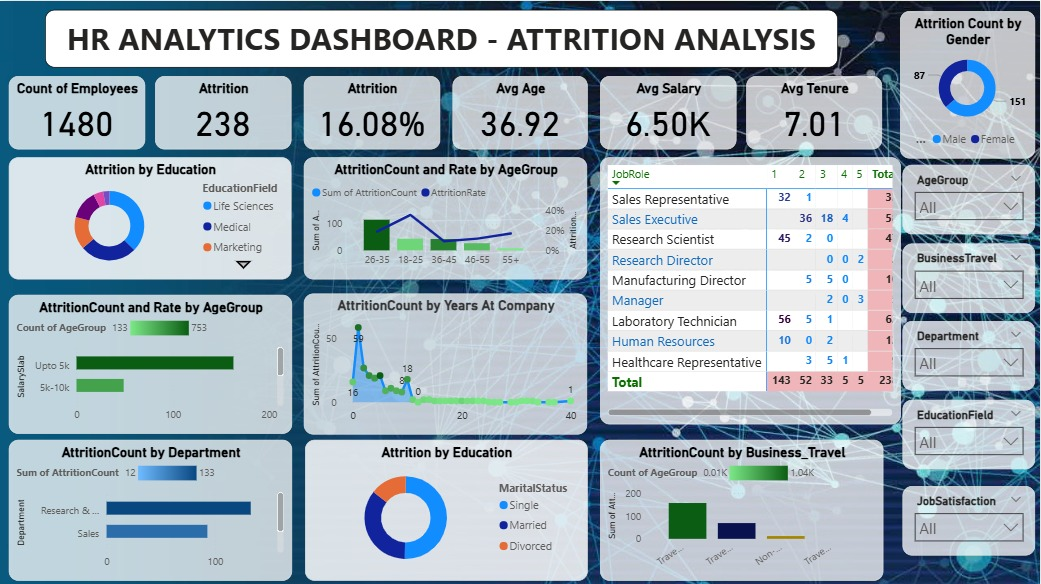

Layout of this report page (visuals, bound fields, positions):
{"tool":"powerbi","page":{"name":"Page 1","canvas":[1280,720],"ordinal":0},"visuals":[{"type":"textbox","box":[55,11.2,976.2,71.2],"z":0},{"type":"card","title":"Count of Employees","fields":{"Values":["CountNonNull(HR_Analytics.EmpID)"]},"box":[11.1,92.2,167.8,90],"z":1},{"type":"card","title":"Attrition","fields":{"Values":["Sum(HR_Analytics.AttritionCount)"]},"box":[191.1,92.2,167.8,90],"z":2},{"type":"card","title":"Attrition","fields":{"Values":["HR_Analytics.AttritionRate"]},"box":[374.4,92.2,167.8,90],"z":3},{"type":"card","title":"Avg Age","fields":{"Values":["Avg(HR_Analytics.Age)"]},"box":[556.7,92.2,166.7,90],"z":4},{"type":"card","title":"Avg Salary","fields":{"Values":["Avg(HR_Analytics.MonthlyIncome)"]},"box":[737.8,92.2,167.8,90],"z":5},{"type":"card","title":"Avg Tenure","fields":{"Values":["Avg(HR_Analytics.YearsAtCompany)"]},"box":[918.8,92.5,167.5,90],"z":6},{"type":"donutChart","title":"Attrition Count by Gender","fields":{"Category":["HR_Analytics.Gender"],"Y":["Sum(HR_Analytics.AttritionCount)"]},"box":[1107.7,11.5,166.2,181.5],"z":7},{"type":"donutChart","title":" Attrition by Education","fields":{"Category":["HR_Analytics.EducationField","HR_Analytics.YearsAtCompany"],"Y":["Sum(HR_Analytics.AttritionCount)"]},"box":[10,192.2,347.8,150],"z":8},{"type":"lineStackedColumnComboChart","title":" AttritionCount and Rate by AgeGroup","fields":{"Category":["HR_Analytics.AgeGroup"],"Y":["Sum(HR_Analytics.AttritionCount)"],"Y2":["HR_Analytics.AttritionRate"]},"box":[374.4,192.2,348.9,150],"z":10},{"type":"pivotTable","fields":{"Rows":["HR_Analytics.JobRole"],"Columns":["HR_Analytics.JobLevel"],"Values":["Sum(HR_Analytics.AttritionCount)"]},"box":[737.8,192.2,370,328.9],"z":11},{"type":"areaChart","title":"AttritionCount by Years At Company","fields":{"Category":["HR_Analytics.YearsAtCompany"],"Y":["Sum(HR_Analytics.AttritionCount)"]},"box":[374.4,360,348.9,173.3],"z":13},{"type":"barChart","title":"AttritionCount by Department","fields":{"Y":["Sum(HR_Analytics.AttritionCount)"],"Category":["HR_Analytics.Department"]},"box":[10,540,348.9,173.3],"z":14},{"type":"donutChart","title":" Attrition by Education","fields":{"Y":["Sum(HR_Analytics.AttritionCount)"],"Category":["HR_Analytics.MaritalStatus"]},"box":[375.6,540,347.8,173.3],"z":15},{"type":"columnChart","title":" AttritionCount  by Business_Travel","fields":{"Y":["Sum(HR_Analytics.AttritionCount)"],"Category":["HR_Analytics.BusinessTravel"]},"box":[737.8,540,348.9,173.3],"z":16},{"type":"slicer","fields":{"Values":["HR_Analytics.AgeGroup"]},"box":[1111.1,202.2,163.3,85.6],"z":17},{"type":"slicer","fields":{"Values":["HR_Analytics.BusinessTravel"]},"box":[1111.1,298.9,163.3,85.6],"z":18},{"type":"slicer","fields":{"Values":["HR_Analytics.Department"]},"box":[1111.1,393.3,163.3,85.6],"z":19},{"type":"slicer","fields":{"Values":["HR_Analytics.EducationField"]},"box":[1111.1,490,163.3,85.6],"z":20},{"type":"slicer","fields":{"Values":["HR_Analytics.JobSatisfaction"]},"box":[1111.1,596.7,163.3,85.6],"z":21},{"type":"barChart","title":" AttritionCount and Rate by AgeGroup","fields":{"Category":["HR_Analytics.SalarySlab"],"Y":["Sum(HR_Analytics.AttritionCount)"]},"box":[11.2,361.2,348.8,171.2],"z":22}]}

Visuals, with their boxes in screenshot pixels (x1, y1, x2, y2), scaled from the page's 1280x720 canvas onto the 1041x584 screenshot:
textbox: [45, 9, 839, 67]
"Count of Employees" card: [9, 75, 145, 148]
"Attrition" card: [155, 75, 292, 148]
"Attrition" card: [304, 75, 441, 148]
"Avg Age" card: [453, 75, 588, 148]
"Avg Salary" card: [600, 75, 737, 148]
"Avg Tenure" card: [747, 75, 883, 148]
"Attrition Count by Gender" donutChart: [901, 9, 1036, 157]
" Attrition by Education" donutChart: [8, 156, 291, 278]
" AttritionCount and Rate by AgeGroup" lineStackedColumnComboChart: [304, 156, 588, 278]
pivotTable - HR_Analytics.JobRole x HR_Analytics.JobLevel: [600, 156, 901, 423]
"AttritionCount by Years At Company" areaChart: [304, 292, 588, 433]
"AttritionCount by Department" barChart: [8, 438, 292, 579]
" Attrition by Education" donutChart: [305, 438, 588, 579]
" AttritionCount  by Business_Travel" columnChart: [600, 438, 884, 579]
slicer - HR_Analytics.AgeGroup: [904, 164, 1036, 233]
slicer - HR_Analytics.BusinessTravel: [904, 242, 1036, 312]
slicer - HR_Analytics.Department: [904, 319, 1036, 388]
slicer - HR_Analytics.EducationField: [904, 397, 1036, 467]
slicer - HR_Analytics.JobSatisfaction: [904, 484, 1036, 553]
" AttritionCount and Rate by AgeGroup" barChart: [9, 293, 293, 432]
